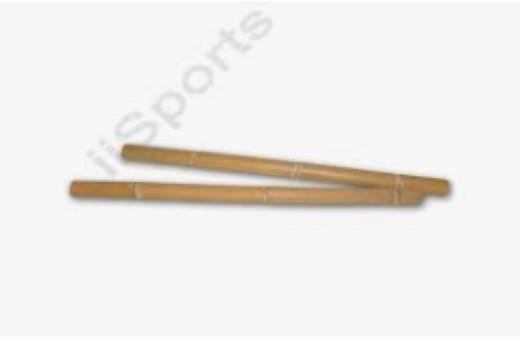baston_e: (133, 138, 430, 194), (80, 177, 389, 212)
baston_v: (400, 181, 430, 213), (108, 133, 136, 163), (61, 173, 84, 205), (434, 170, 456, 201)
